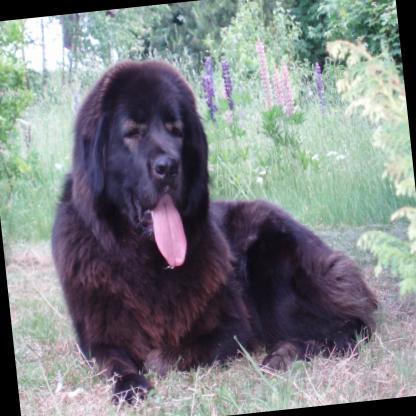Tibetan_mastiff: (29, 35, 388, 414)
